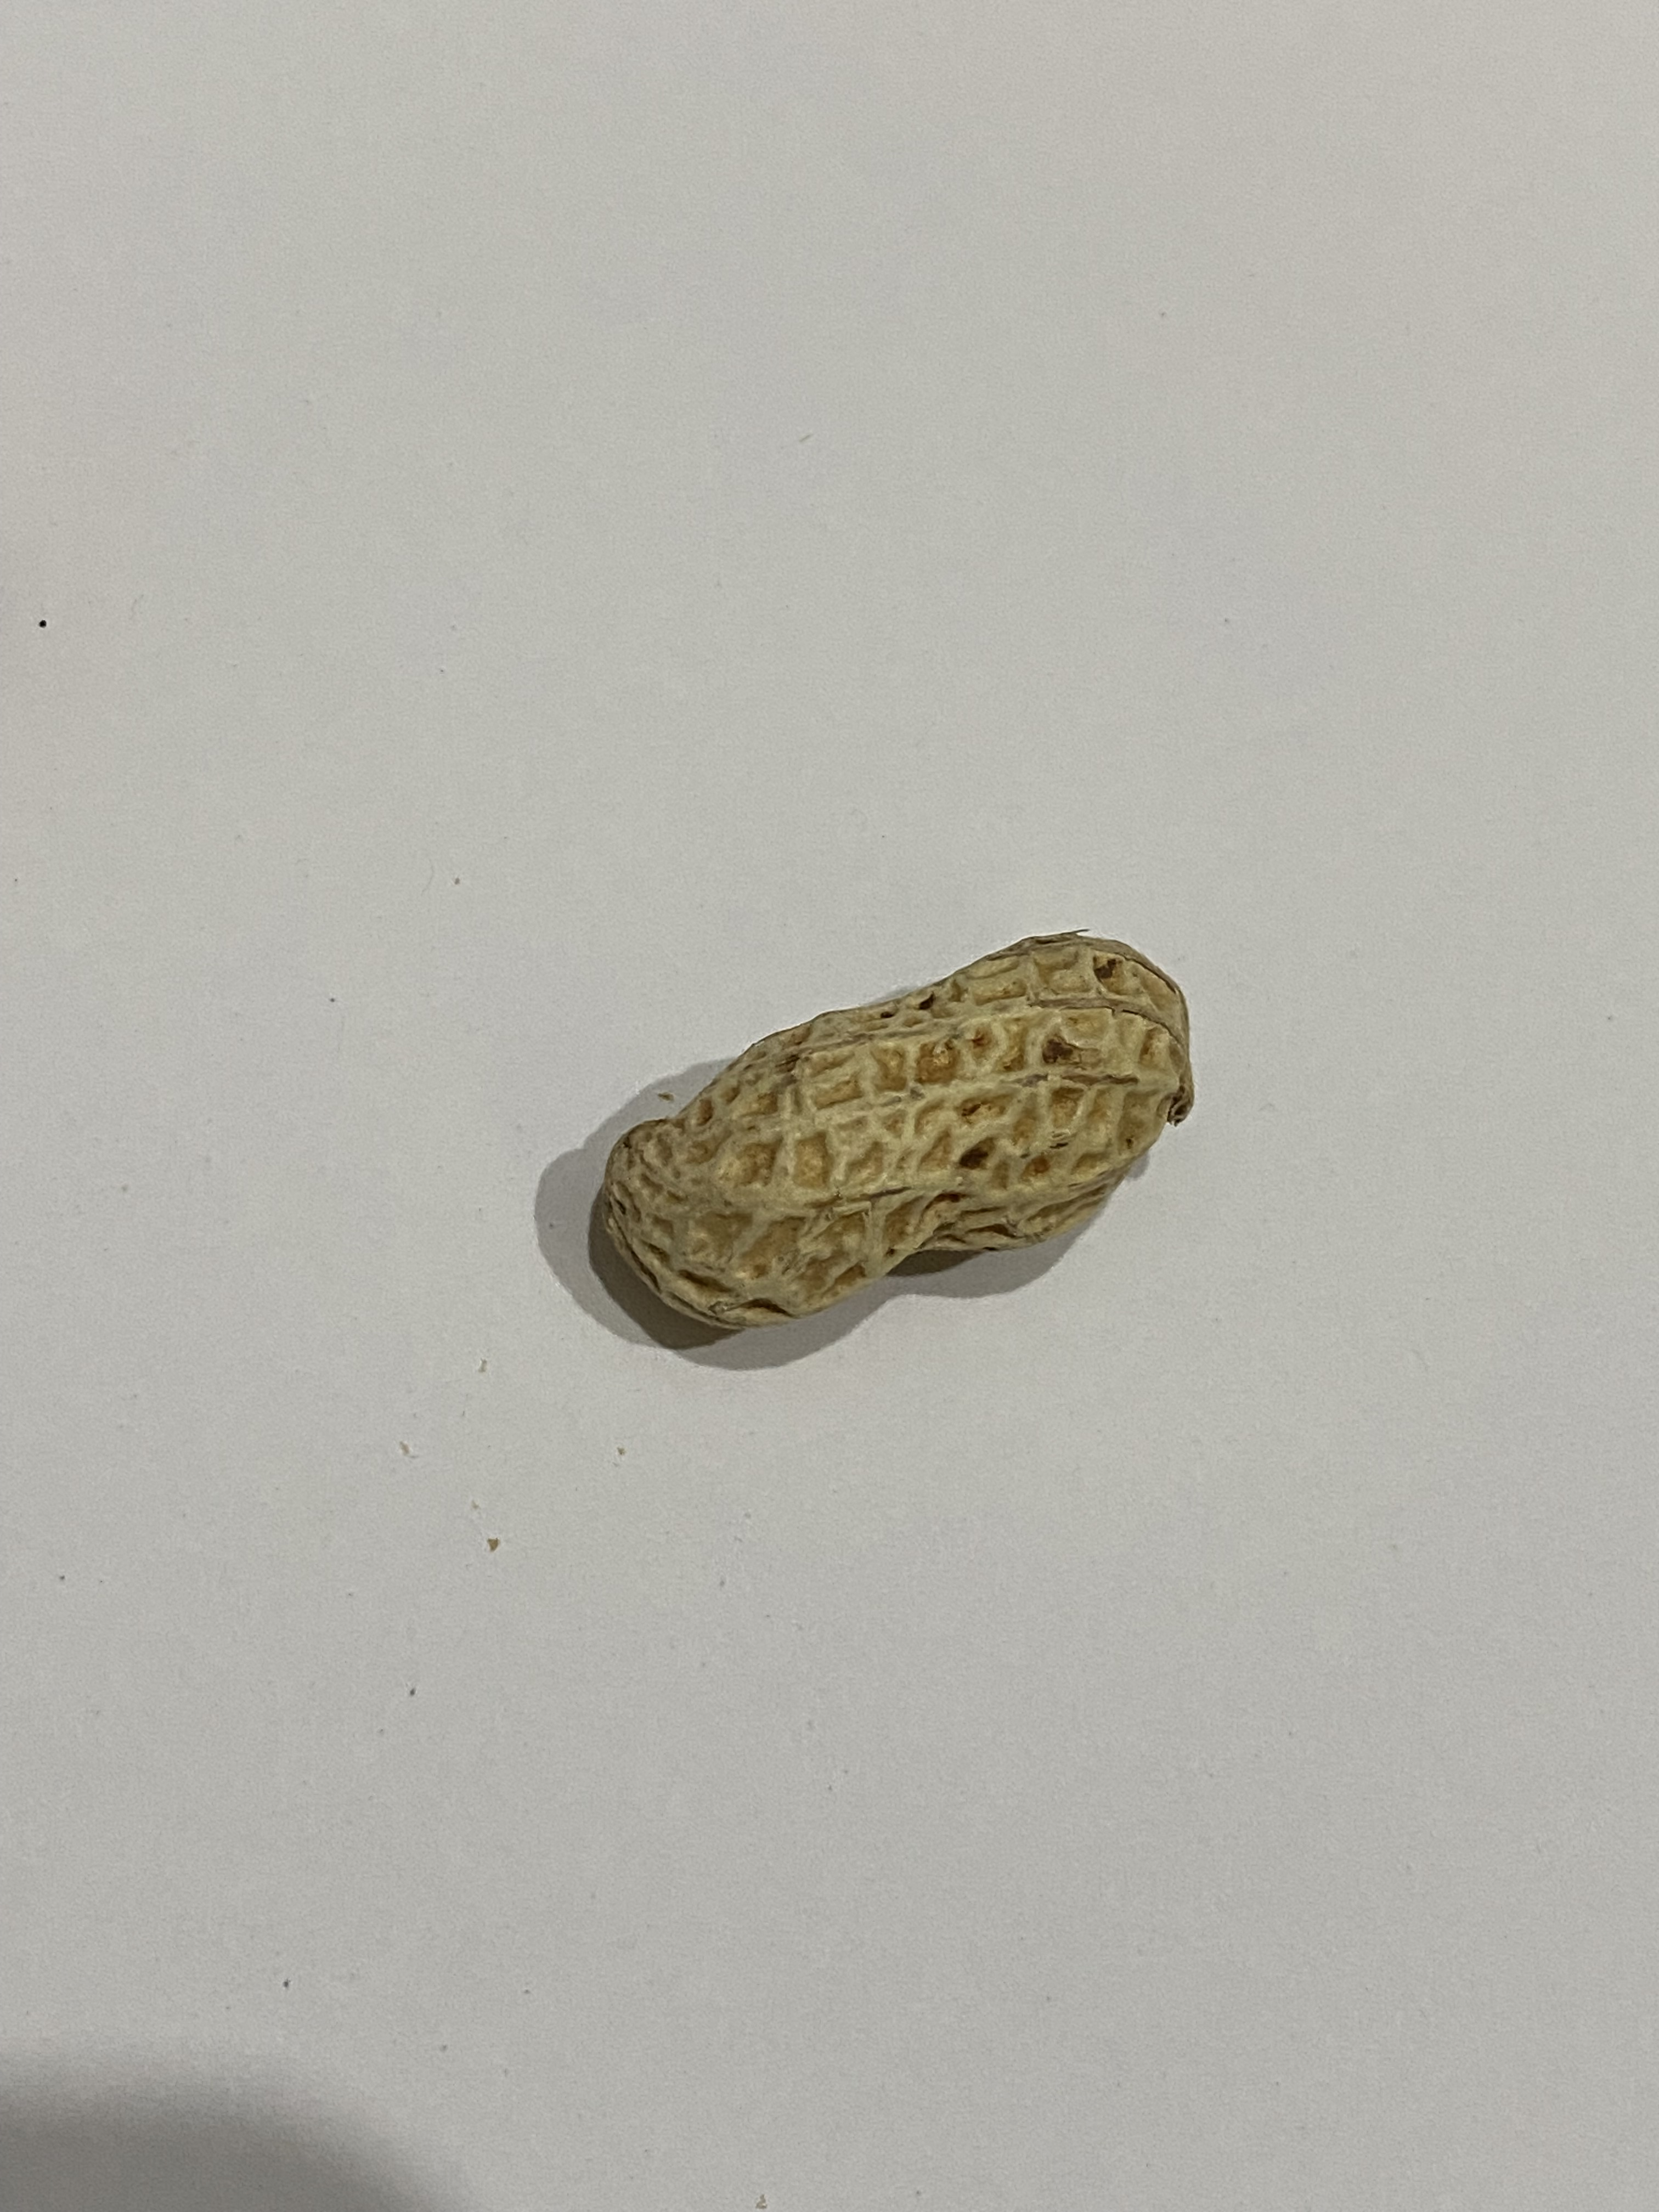kacang2: (568, 921, 1199, 1329)
